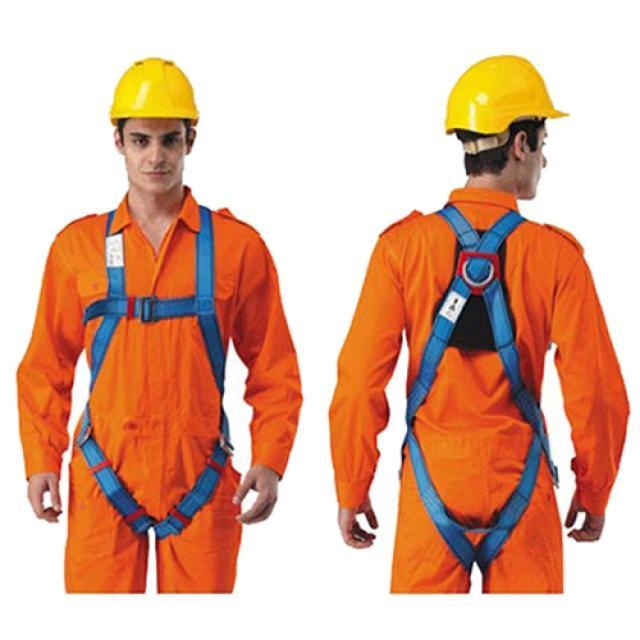Arnes_seguridad: (405, 203, 552, 570), (75, 204, 234, 540)
